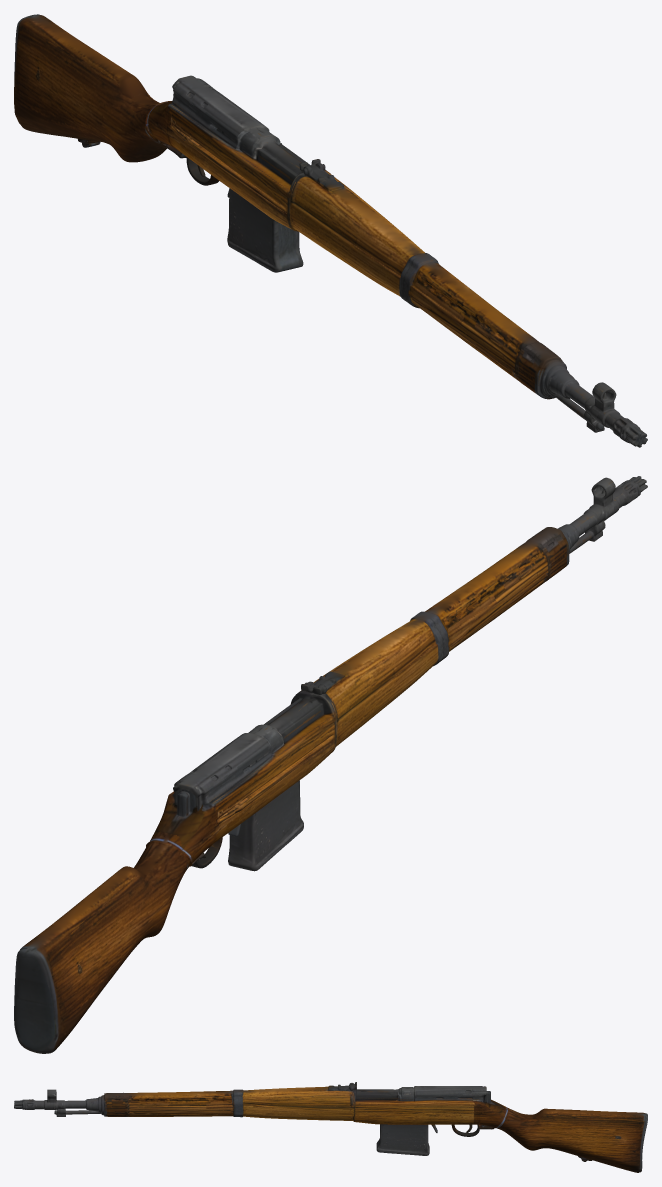
Rendered from SVT40.glb.
3 renders of one model, top to bottom at view 1: azimuth 30°, elevation 25°; view 2: azimuth 150°, elevation 25°; view 3: azimuth 270°, elevation 25°, orthographic. The views are drawn at different scales.
Parts seen in each view (by area): view 1: node_0; view 2: node_0; view 3: node_0.
Boxes of the visible parts, x1,y1,x2,y2 form: node_0: (14, 14, 647, 447); node_0: (14, 476, 647, 1053); node_0: (14, 1082, 647, 1172).
Size of the model in its own units: 0.0589 by 0.1807 by 1.2.
Materials: 1 (1 with a texture image).
